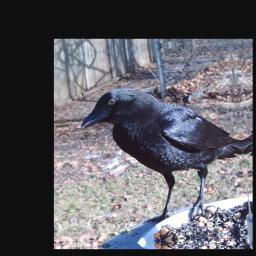Crow: (77, 77, 251, 231)
